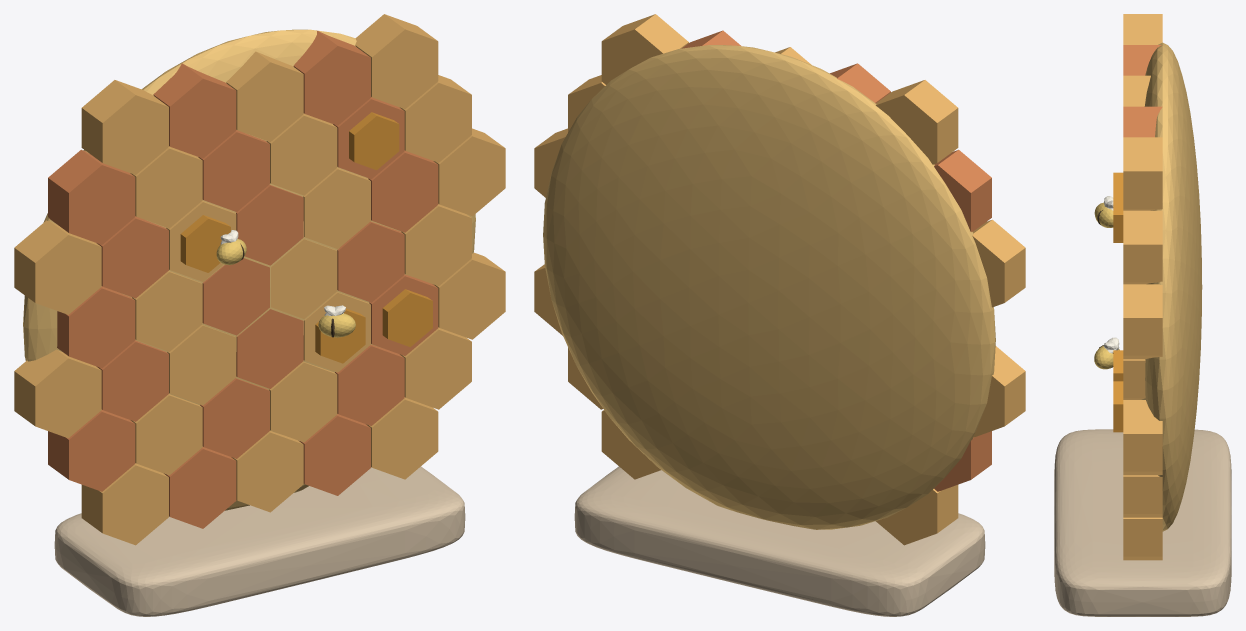
The model's file is hive.glb.
3 views of the same model, side by side, from view 1: azimuth 30°, elevation 25°; view 2: azimuth 150°, elevation 25°; view 3: azimuth 270°, elevation 25° (orthographic). The views are drawn at different scales.
Visible parts, largest first — view 1: Slab, Comb_Back, Cell_0_0, Cell_1_0, Cell_2_0, Cell_4_0, Cell_0_4, Cell_0_1, Cell_0_3, Cell_5_0, Cell_6_0, Cell_0_2 (+37 smaller); view 2: Comb_Back, Slab, Cell_0_0, Cell_0_4, Cell_2_0, Cell_1_0, Cell_6_0, Cell_4_0, Cell_6_4, Cell_5_0, Cell_2_6, Cell_0_1 (+2 smaller); view 3: Slab, Comb_Back, Cell_2_6, Cell_1_5, Cell_0_4, Cell_4_6, Cell_6_4, Cell_5_5, Cell_0_0, Cell_0_3, Cell_3_5, Cell_0_1 (+6 smaller).
Boxes of the visible parts, x1=… form: Slab: x1=54, y1=466, x2=465, y2=616; Comb_Back: x1=23, y1=29, x2=475, y2=510; Cell_0_0: x1=81, y1=80, x2=168, y2=174; Cell_1_0: x1=48, y1=149, x2=135, y2=244; Cell_2_0: x1=14, y1=220, x2=101, y2=314; Cell_4_0: x1=14, y1=349, x2=101, y2=438; Cell_0_4: x1=355, y1=14, x2=438, y2=108; Cell_0_1: x1=153, y1=63, x2=236, y2=158; Cell_0_3: x1=293, y1=30, x2=370, y2=125; Cell_5_0: x1=48, y1=409, x2=135, y2=491; Cell_6_0: x1=81, y1=463, x2=168, y2=545; Cell_0_2: x1=226, y1=51, x2=303, y2=141; Comb_Back: x1=543, y1=45, x2=995, y2=529; Slab: x1=574, y1=466, x2=985, y2=616; Cell_0_0: x1=875, y1=80, x2=958, y2=164; Cell_0_4: x1=601, y1=14, x2=688, y2=84; Cell_2_0: x1=972, y1=219, x2=1025, y2=307; Cell_1_0: x1=934, y1=149, x2=991, y2=231; Cell_6_0: x1=876, y1=485, x2=958, y2=545; Cell_4_0: x1=972, y1=346, x2=1025, y2=437; Cell_6_4: x1=601, y1=410, x2=660, y2=479; Cell_5_0: x1=934, y1=431, x2=991, y2=491; Cell_2_6: x1=534, y1=128, x2=567, y2=197; Cell_0_1: x1=830, y1=63, x2=890, y2=103; Slab: x1=1054, y1=429, x2=1231, y2=616; Comb_Back: x1=1141, y1=42, x2=1202, y2=531; Cell_2_6: x1=1123, y1=284, x2=1162, y2=359; Cell_1_5: x1=1123, y1=210, x2=1162, y2=284; Cell_0_4: x1=1123, y1=137, x2=1162, y2=210; Cell_4_6: x1=1123, y1=400, x2=1162, y2=475; Cell_6_4: x1=1123, y1=517, x2=1162, y2=560; Cell_5_5: x1=1123, y1=475, x2=1162, y2=517; Cell_0_0: x1=1123, y1=14, x2=1162, y2=44; Cell_0_3: x1=1123, y1=106, x2=1162, y2=137; Cell_3_5: x1=1123, y1=359, x2=1145, y2=399; Cell_0_1: x1=1123, y1=45, x2=1161, y2=75.
Bounding box in the file's own units: 0.7843 × 0.8136 × 0.2732.
